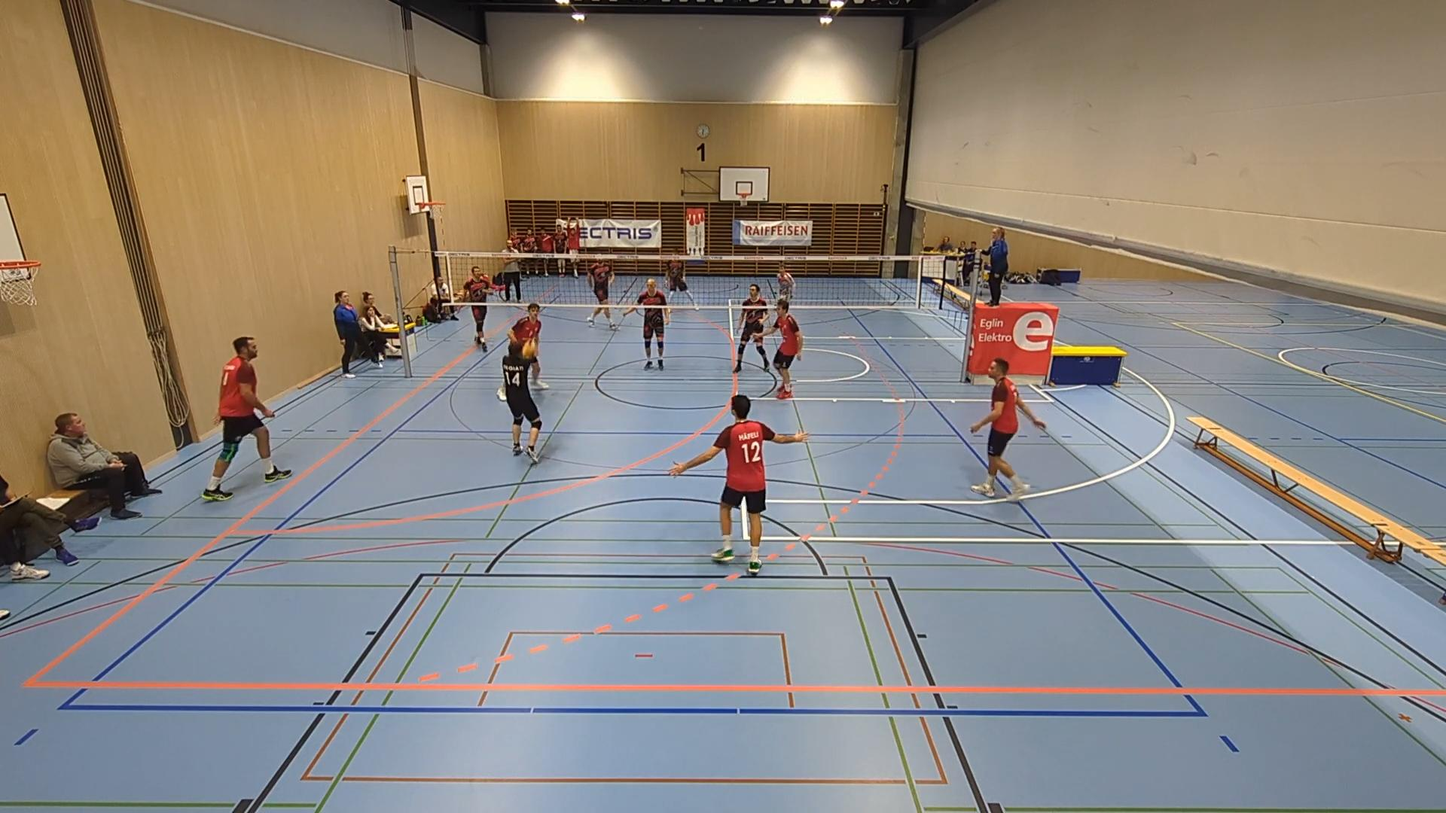ricezione: (499, 337, 554, 465)
